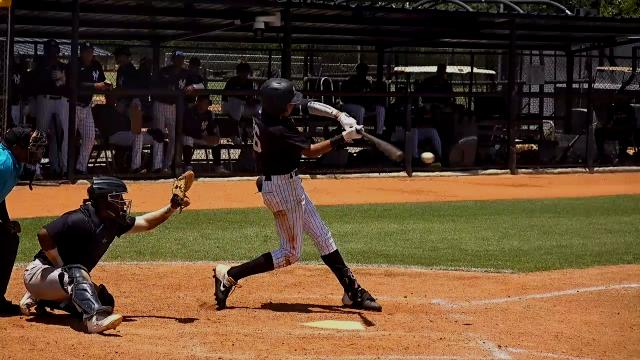baseball bat: (360, 130, 406, 166)
sports ball: (422, 152, 434, 162)
